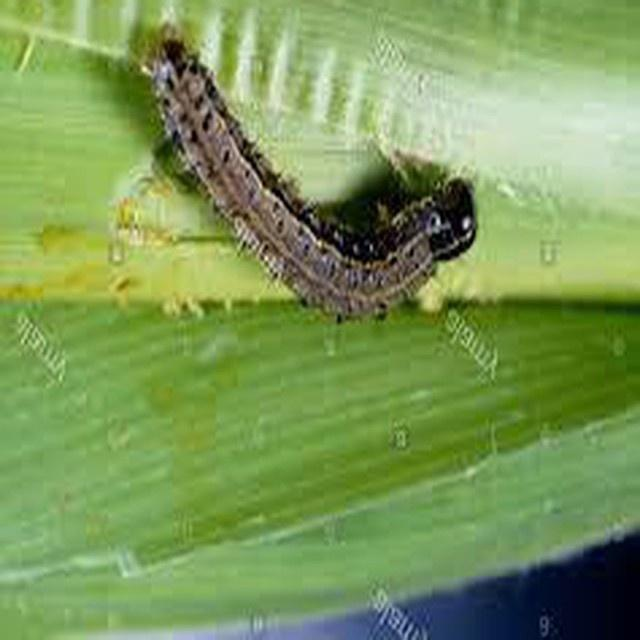gusano_cogollero: (154, 45, 476, 317)
